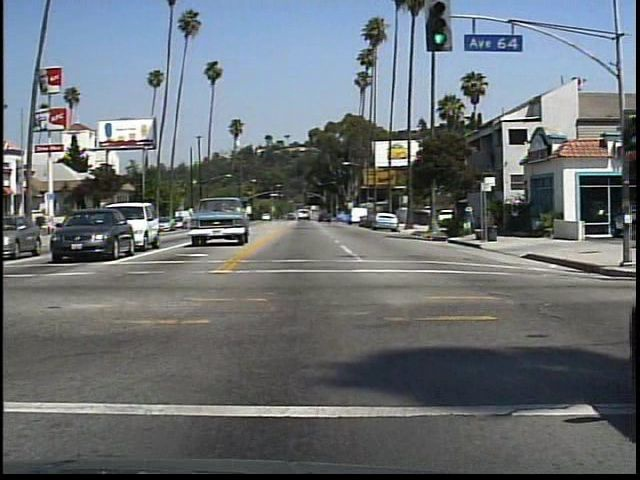person: (462, 202, 477, 238)
